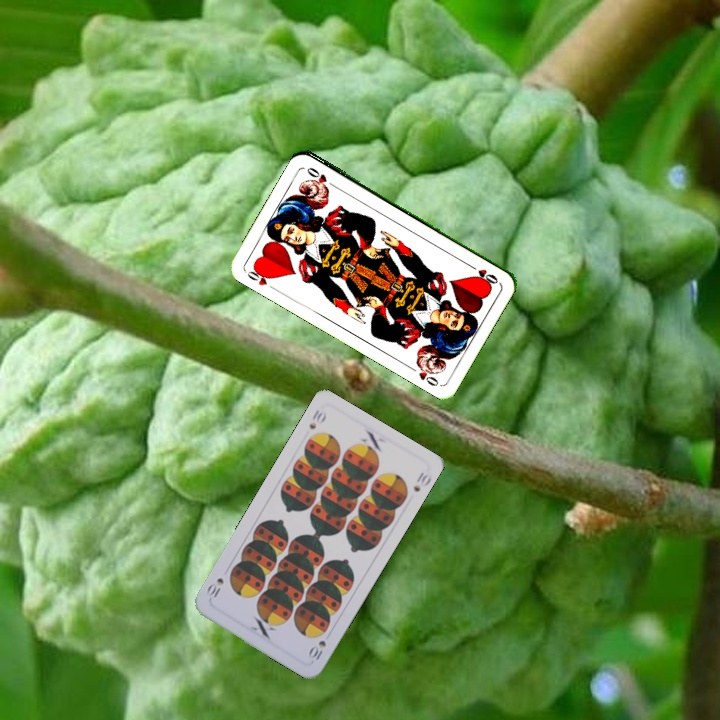HO: (464, 260, 501, 286), (242, 263, 276, 288)
S10: (304, 636, 329, 664), (305, 405, 329, 432)
